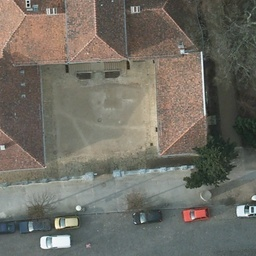car: (132, 207, 166, 225), (16, 217, 51, 234), (40, 234, 70, 250), (183, 206, 209, 223), (54, 217, 80, 230), (0, 223, 15, 235)
